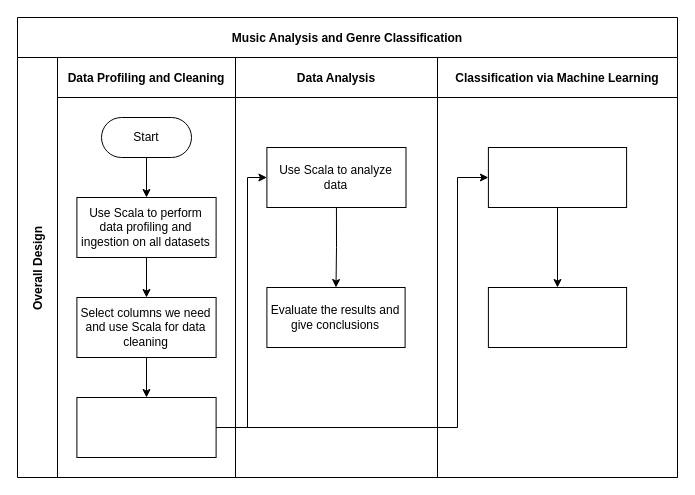
Image size: 695x495. Some labels were removed from this diagram. The shapes that lost their labels are listed below. From the top down, each one's centre as x and y in pixels, then its label:
At pixel 557 177: "Use PySpark to train four classification models on cleaned datsets".
At pixel 557 317: "Compare and evaluate results".
At pixel 146 427: "Export to new dataset".
